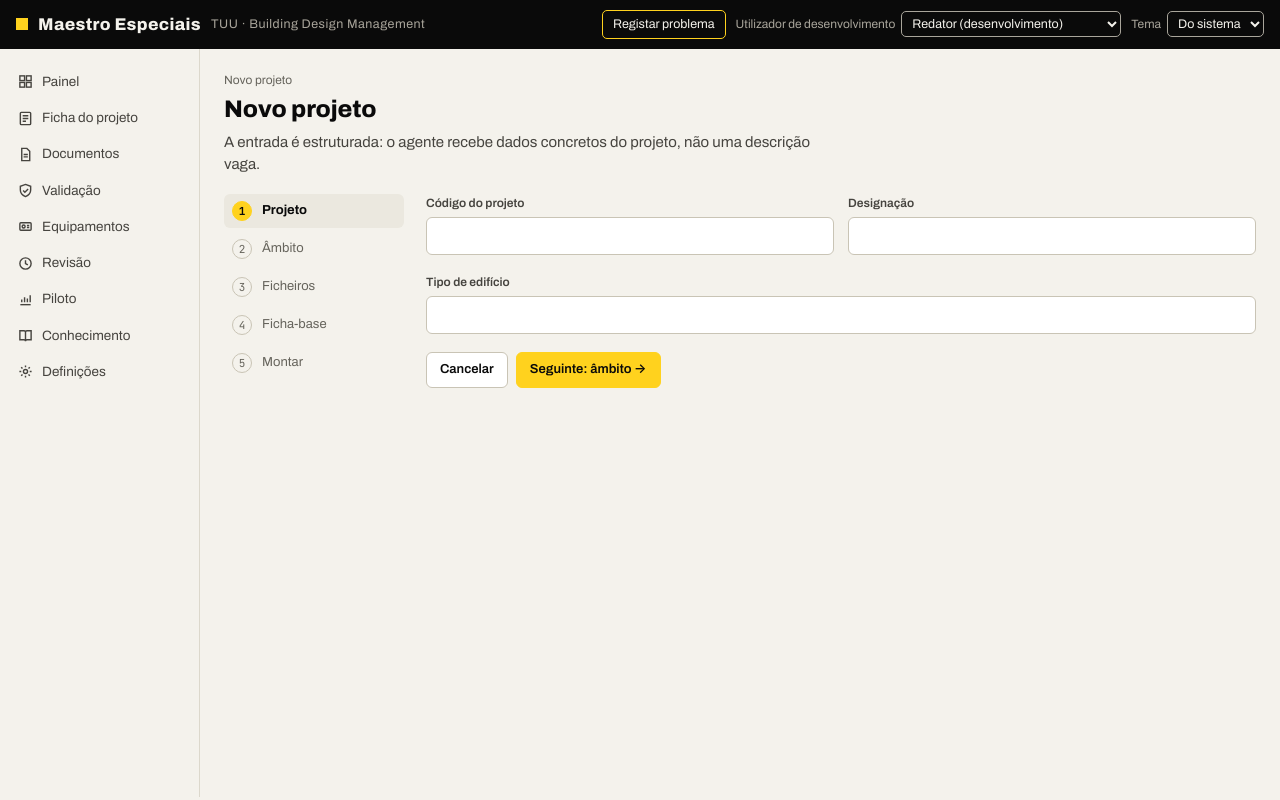
Test: new project wizard › shows why the project could not be created
The image size is (1280, 800).
In the field labelled "Código do projeto": (630, 236) [426,217,834,255], type "R9"
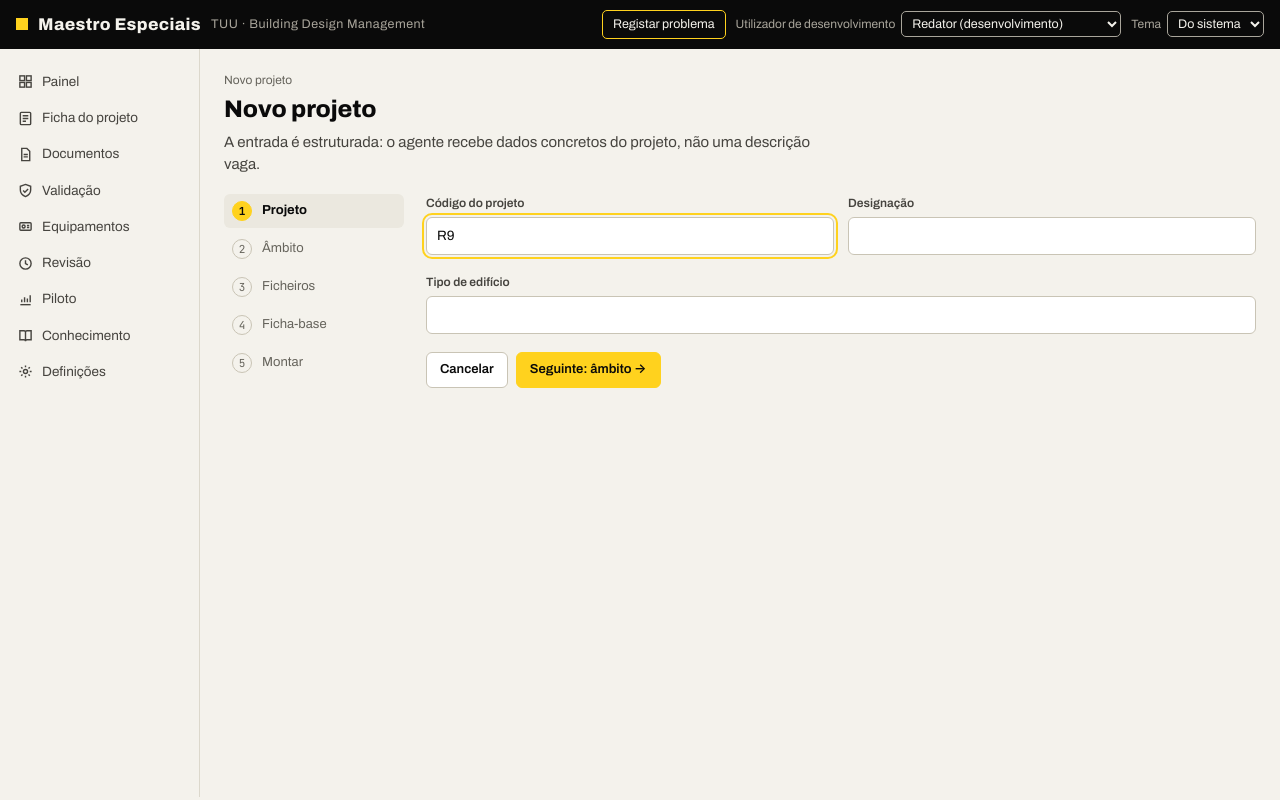
In the field labelled "Designação": (1052, 236) [848,217,1256,255], type "x"
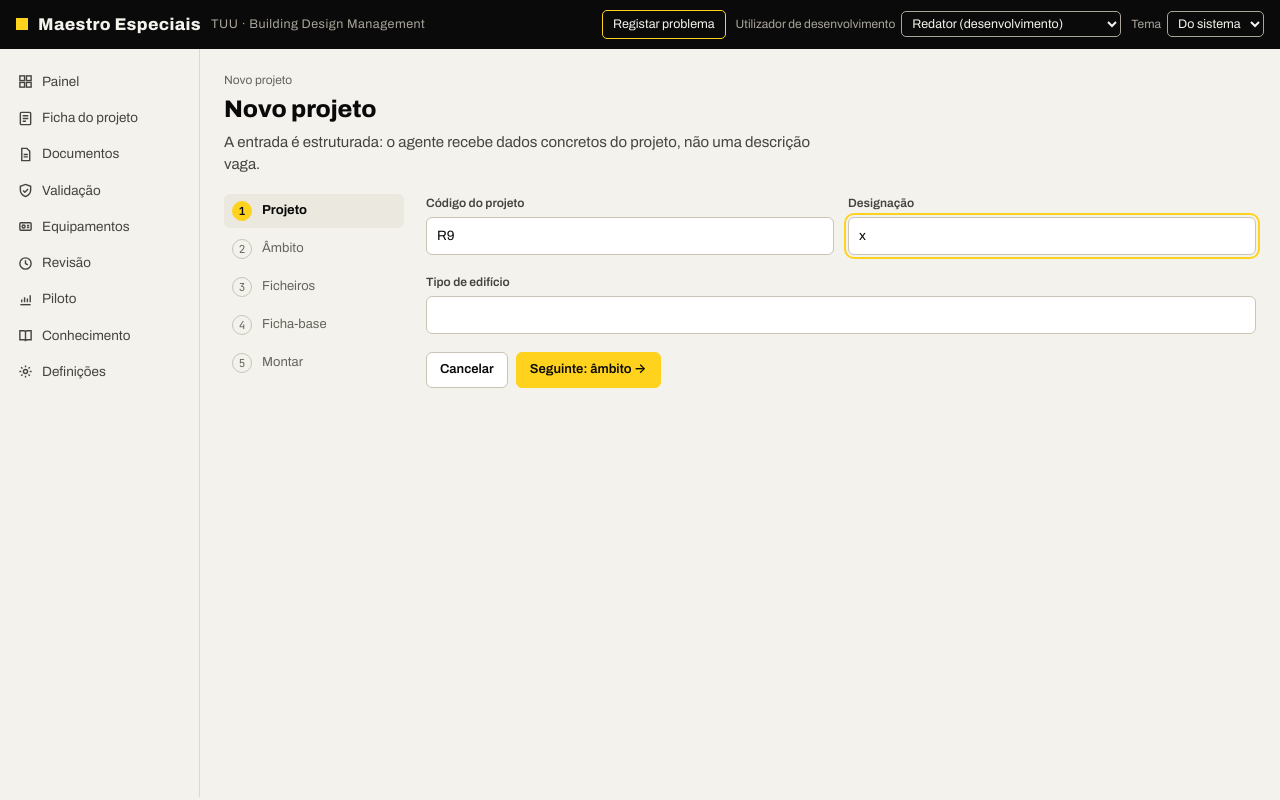
Click the button "Seguinte: âmbito →": (588, 370) [516,352,660,388]
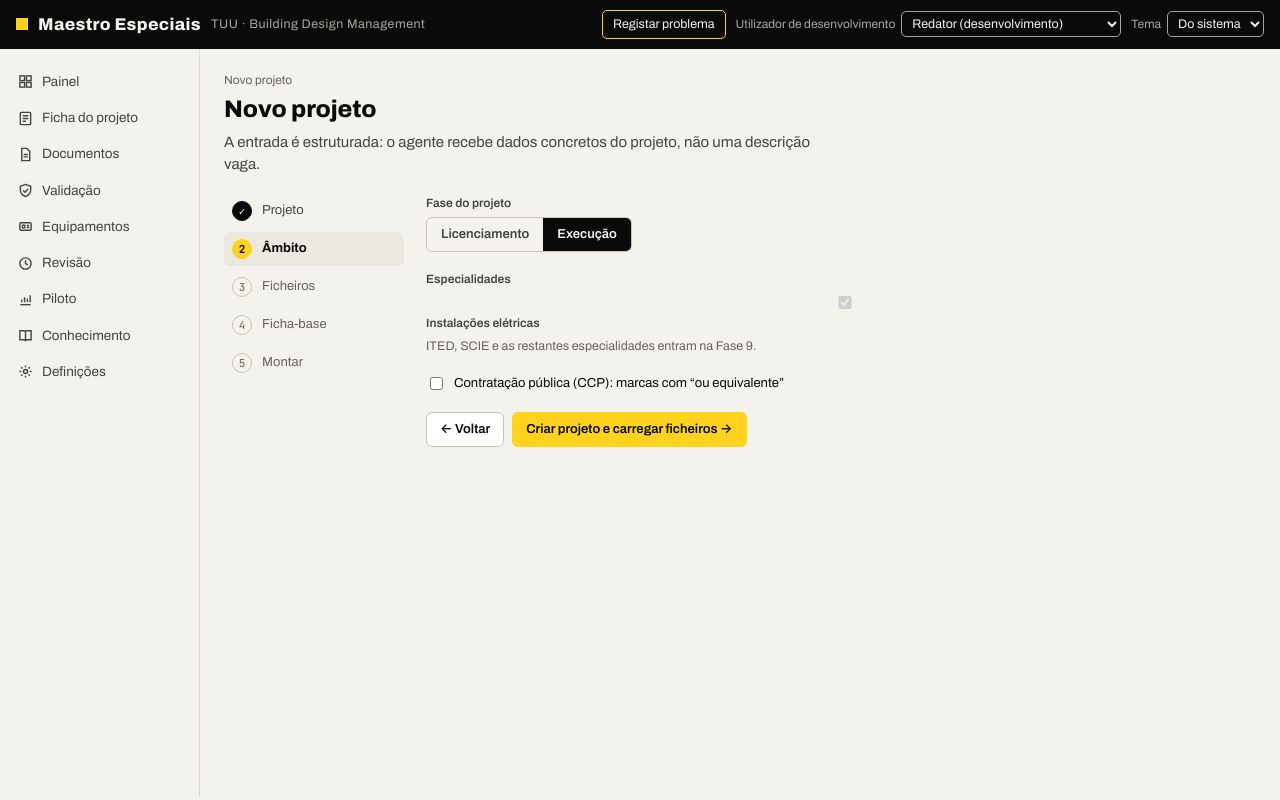
Click the button "Criar projeto e carregar ficheiros →": (629, 429) [512,412,747,447]
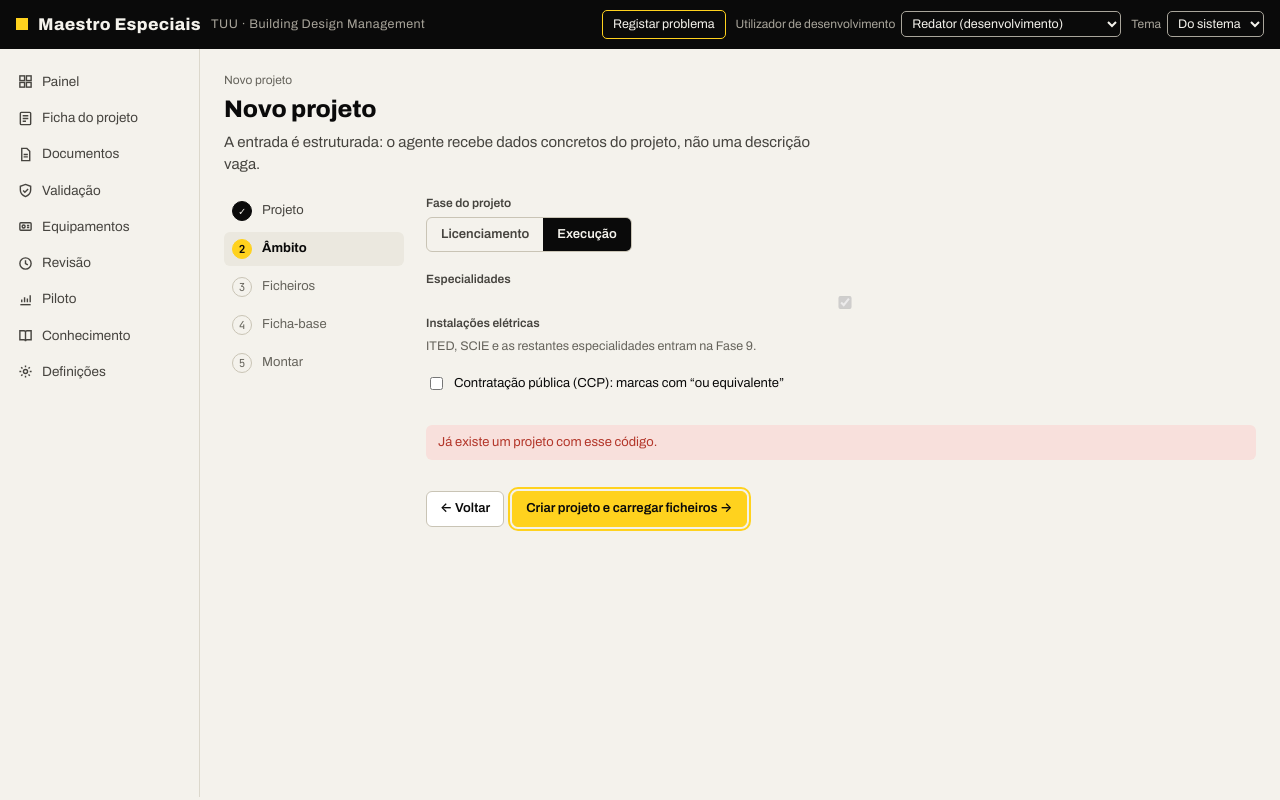
expect the message reads "Já existe um projeto com esse código.": met, box [438,434,657,448]
